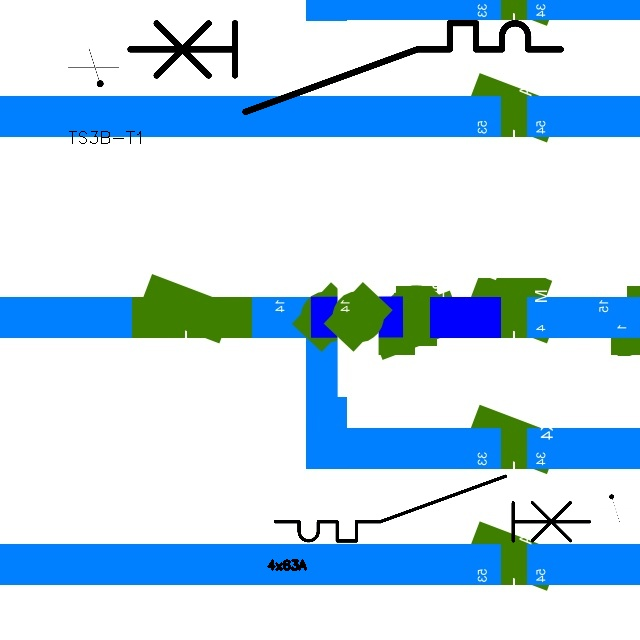interruptor_termomagnetico: (119, 12, 572, 123), (267, 468, 597, 549)
